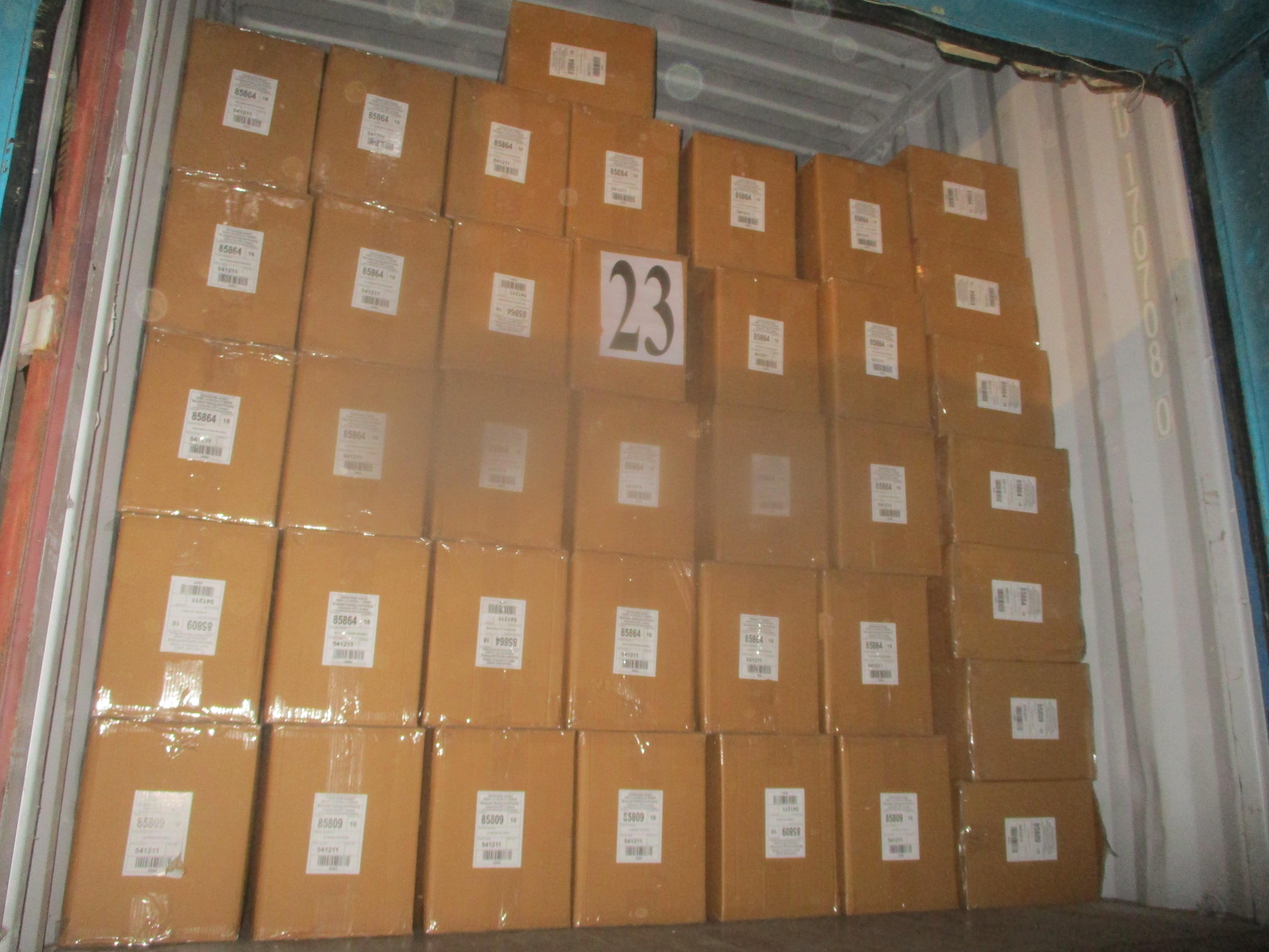carton: (60, 720, 259, 945), (93, 514, 279, 721), (250, 724, 424, 938), (117, 330, 296, 523), (261, 527, 433, 726), (418, 728, 575, 932), (278, 353, 436, 535), (146, 175, 313, 346), (421, 540, 569, 727), (169, 19, 324, 194), (574, 729, 706, 928), (297, 197, 452, 365), (427, 370, 571, 545), (705, 734, 839, 920), (308, 46, 454, 214), (563, 551, 696, 731), (692, 403, 834, 566), (836, 736, 958, 914), (568, 389, 697, 556), (438, 218, 570, 380), (694, 561, 819, 732), (565, 238, 690, 398), (687, 267, 821, 412), (442, 75, 570, 226), (939, 658, 1095, 780), (819, 569, 935, 733), (496, 0, 657, 117), (955, 779, 1100, 908), (827, 417, 944, 572), (815, 277, 933, 425), (562, 103, 680, 250), (680, 129, 797, 275), (944, 541, 1086, 660), (939, 433, 1075, 550), (798, 152, 916, 285), (928, 335, 1055, 449), (902, 142, 1024, 249), (915, 240, 1038, 343)
